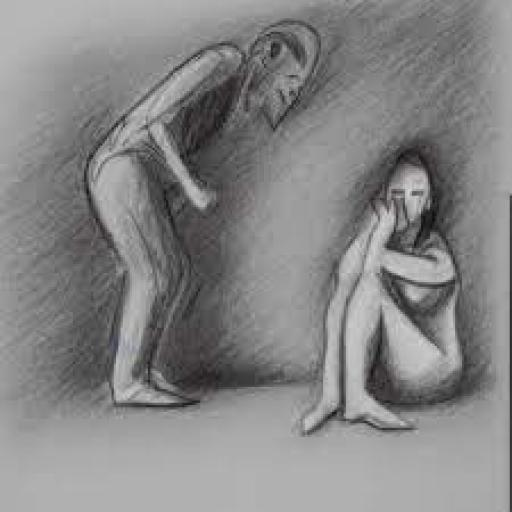person: (80, 6, 317, 419), (299, 136, 484, 438)
